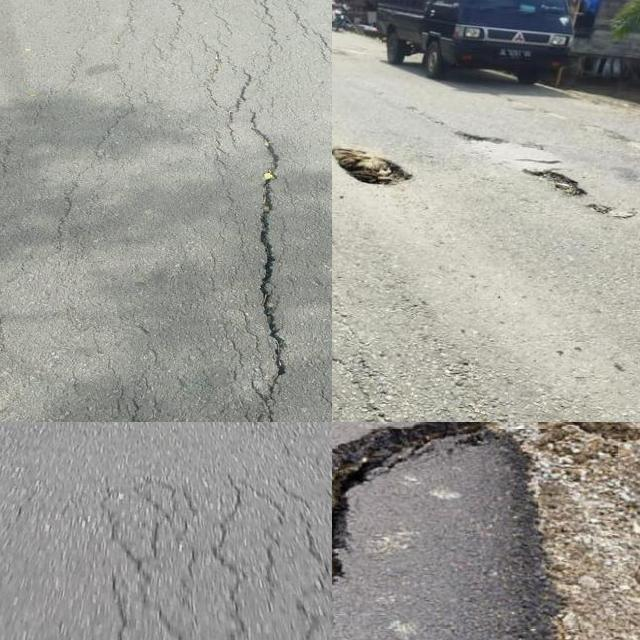Lubang: (332, 143, 404, 186)
Memanjang: (225, 85, 305, 422)
Pinggir: (332, 422, 570, 640)
Retak Buaya: (105, 487, 332, 640)
